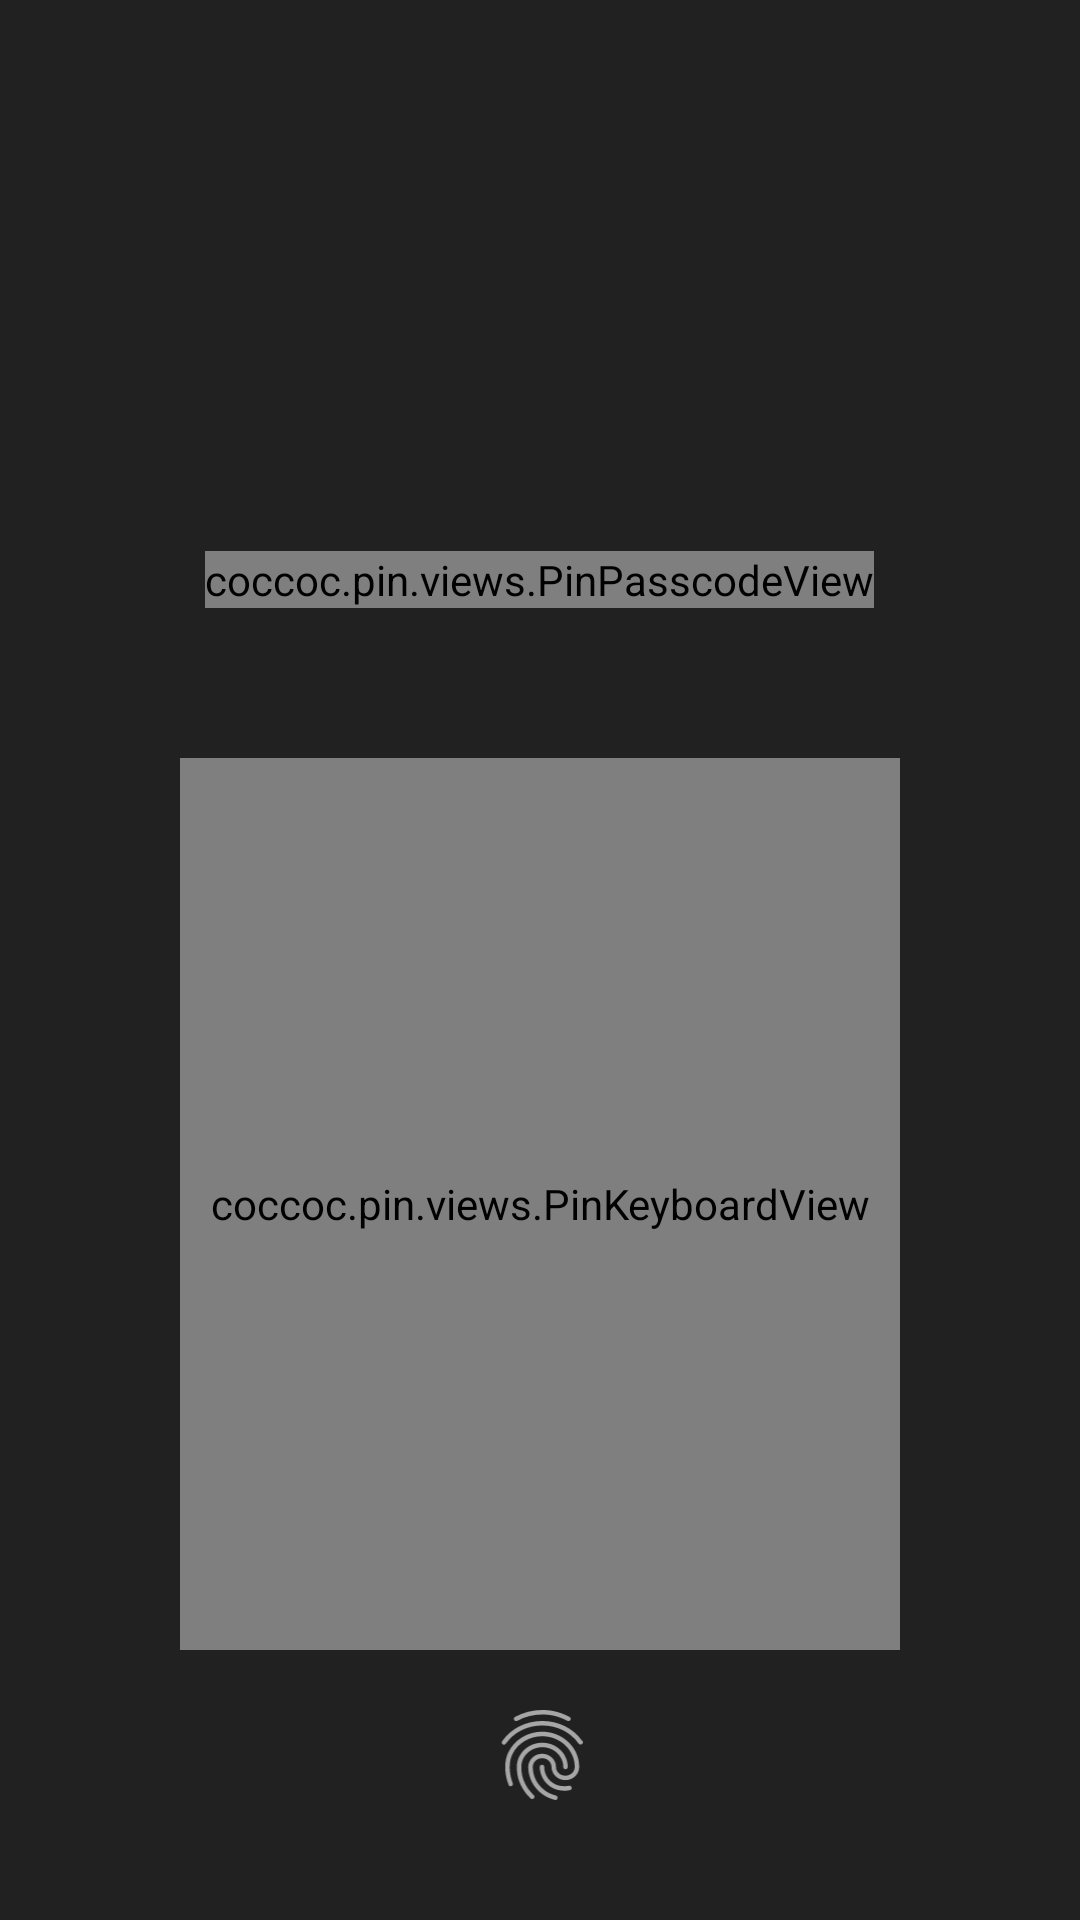

Icons on this 1080px×1920px Android screen, each with the point to tap as point (x, y):
pin fingerprint: point (542, 1755)
